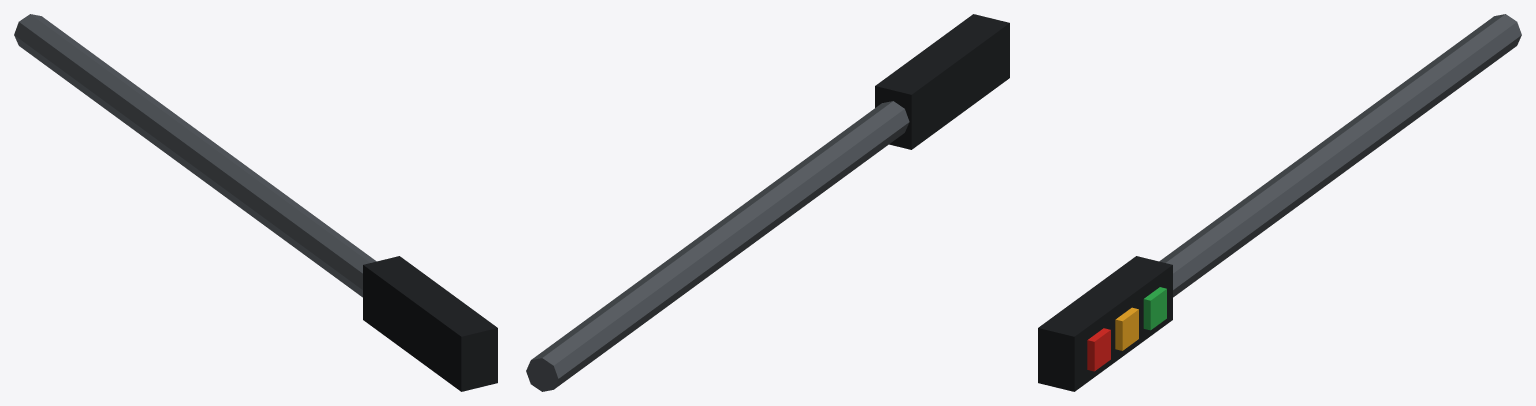
Rendered from signal_light.obj.
The picture shows the model from 3 angles, left to right: view 1: azimuth 30°, elevation 25°; view 2: azimuth 150°, elevation 25°; view 3: azimuth 330°, elevation 25°; orthographic projection.
Visible parts, largest first — view 1: signal_light_pole, signal_light_housing; view 2: signal_light_pole, signal_light_housing; view 3: signal_light_pole, signal_light_housing, signal_light_lamp_red, signal_light_lamp_amber, signal_light_lamp_green.
Boxes of the visible parts, <box> form: signal_light_pole: <box>14,14,376,297</box>; signal_light_housing: <box>363,256,497,391</box>; signal_light_pole: <box>526,101,909,391</box>; signal_light_housing: <box>875,14,1009,149</box>; signal_light_pole: <box>1159,14,1521,297</box>; signal_light_housing: <box>1038,256,1172,391</box>; signal_light_lamp_red: <box>1087,328,1110,371</box>; signal_light_lamp_amber: <box>1115,307,1138,350</box>; signal_light_lamp_green: <box>1143,287,1166,330</box>.
Bounding box in the file's own units: 0.215 × 0.26 × 3.84.
